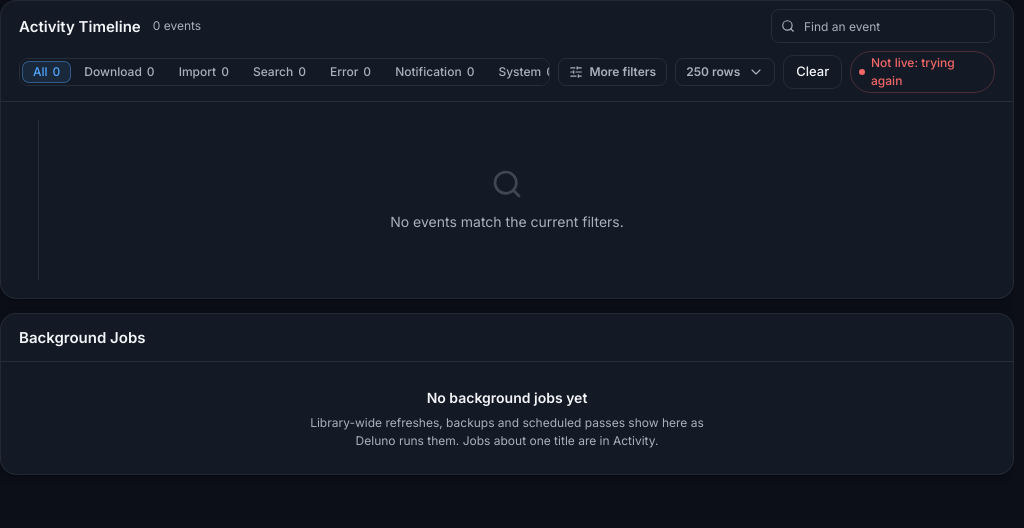
Test: Activity timeline (System > Audit) › changing Rows shown to 100 saves it, says Page size saved and reads the timeline again; a save that fails shows its error and keeps the old size
Click the dropdown named "Rows shown" at x=725, y=72, box x1=675 y1=58 x2=775 y2=86
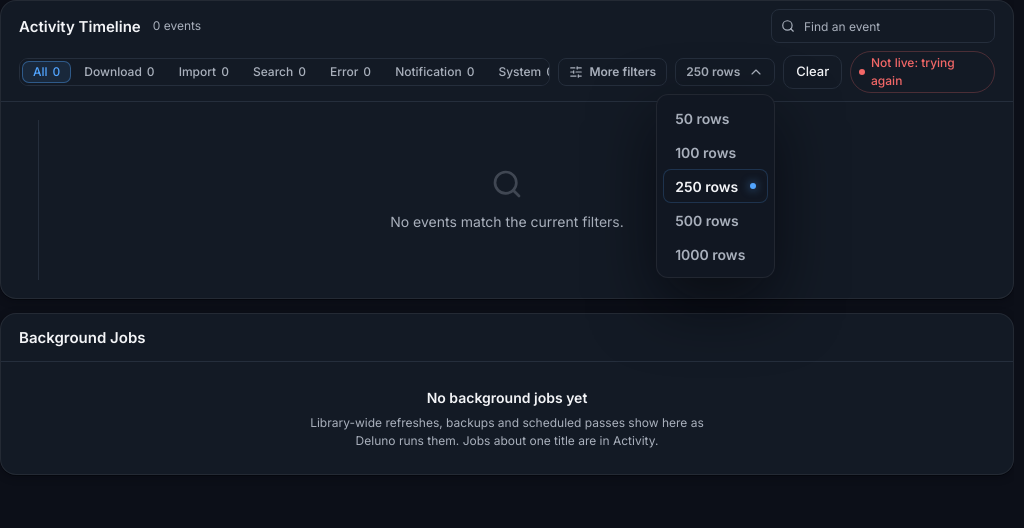
Click the option "100 rows" at x=716, y=152, box x1=663 y1=135 x2=768 y2=169
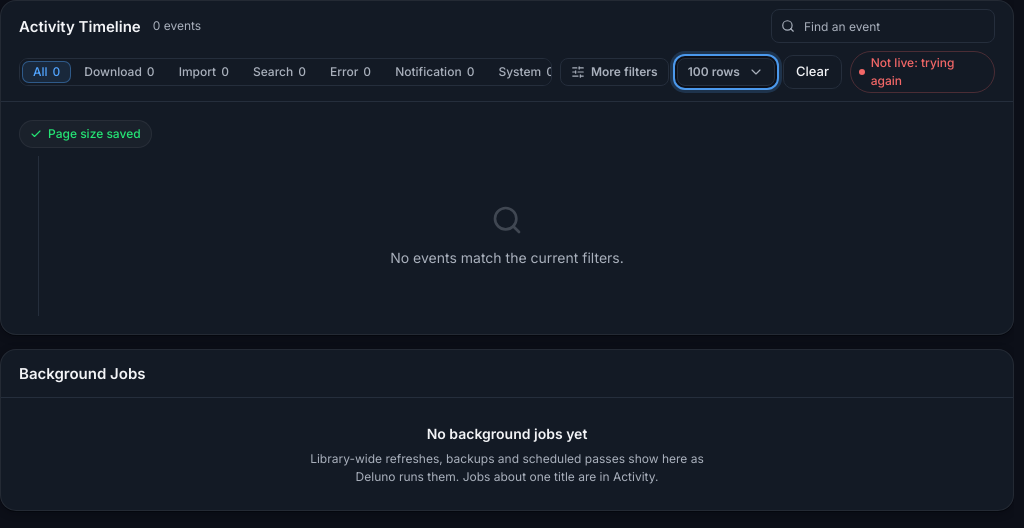
Now the text "Page size saved" is shown, box x1=19 y1=120 x2=152 y2=148
Now the dropdown named "Rows shown" reads "100 rows"
Click the dropdown named "Rows shown" at x=726, y=72, box x1=677 y1=58 x2=775 y2=86
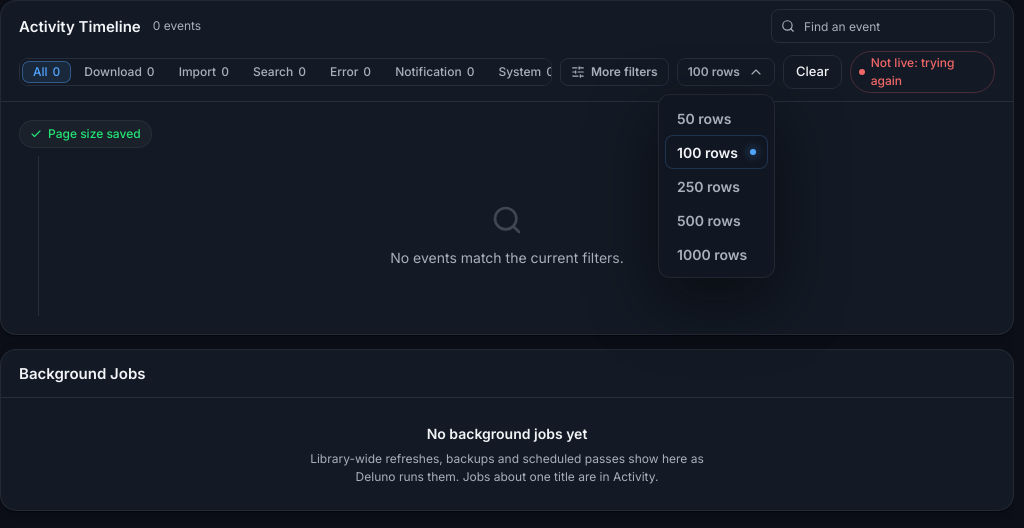
Click the option "1000 rows" at x=716, y=254, box x1=665 y1=237 x2=768 y2=271
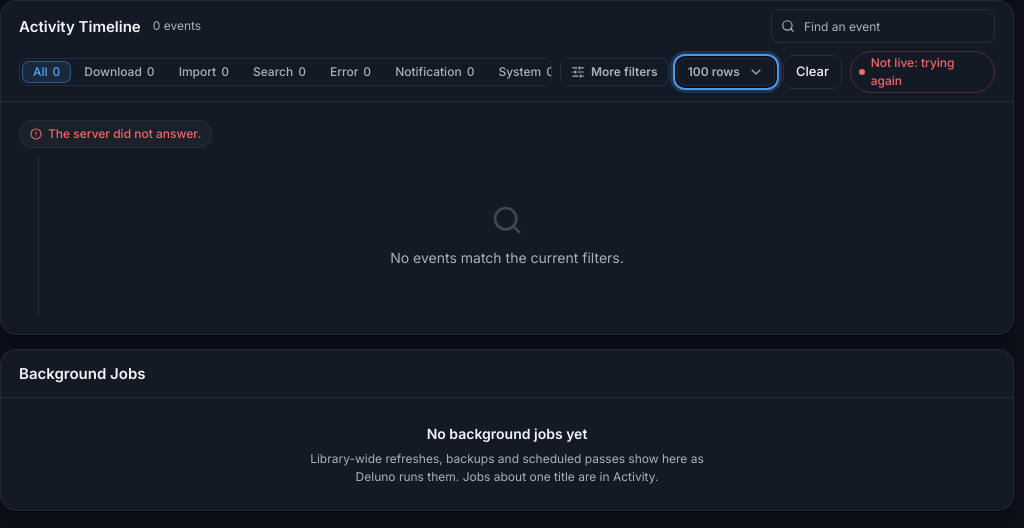
Now the dropdown named "Rows shown" reads "100 rows", box x1=677 y1=58 x2=775 y2=86
Now the text "The server did not answer." is shown, box x1=19 y1=120 x2=212 y2=148
